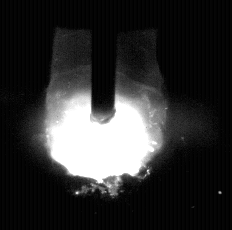arame: (92, 0, 116, 124)
poca: (44, 0, 164, 230)
